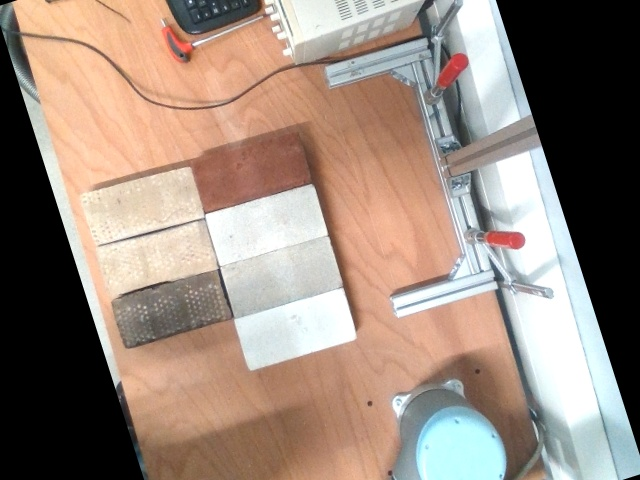brick: (206, 186, 325, 264), (236, 290, 356, 367), (221, 238, 341, 315), (85, 167, 202, 241), (100, 219, 213, 295), (194, 134, 308, 207), (114, 274, 228, 342)
